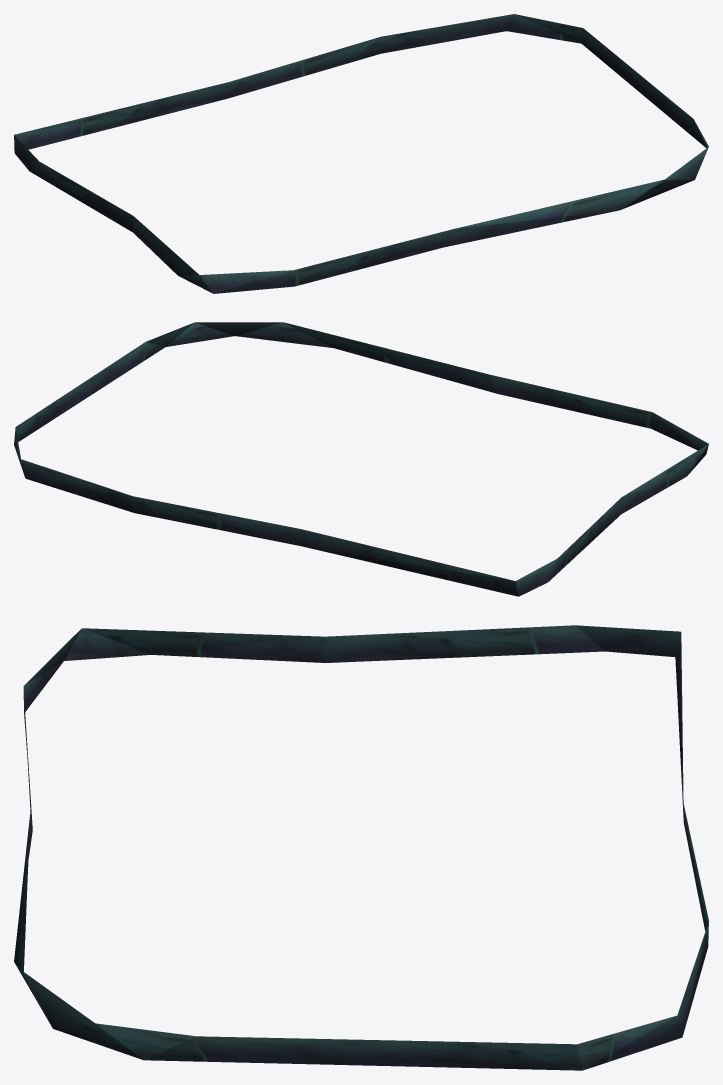
Rendered from CZPlat_2_Lat.gltf.
3 renders of one model, top to bottom at view 1: azimuth 30°, elevation 25°; view 2: azimuth 150°, elevation 25°; view 3: azimuth 270°, elevation 25°, orthographic. The views are drawn at different scales.
Visible parts, largest first — view 1: CZPlat_2_Lat; view 2: CZPlat_2_Lat; view 3: CZPlat_2_Lat.
Boxes of the visible parts, x1,y1,x2,y2 form: CZPlat_2_Lat: (14,14,708,293); CZPlat_2_Lat: (14,322,708,596); CZPlat_2_Lat: (14,625,708,1070).
Size of the model in its own units: 35.67 by 1.06 by 24.99.
1 material, 1 textured.
